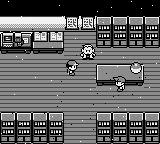leer: (33, 32, 64, 53), (1, 33, 32, 53), (65, 16, 95, 31)
main: (65, 60, 79, 76)
no-caminable: (0, 0, 160, 17), (0, 112, 64, 144), (98, 113, 160, 144), (97, 17, 160, 47), (0, 16, 64, 32), (96, 65, 143, 86)
npc: (112, 76, 127, 92), (80, 45, 96, 60)
poke-ball: (130, 62, 142, 74)
